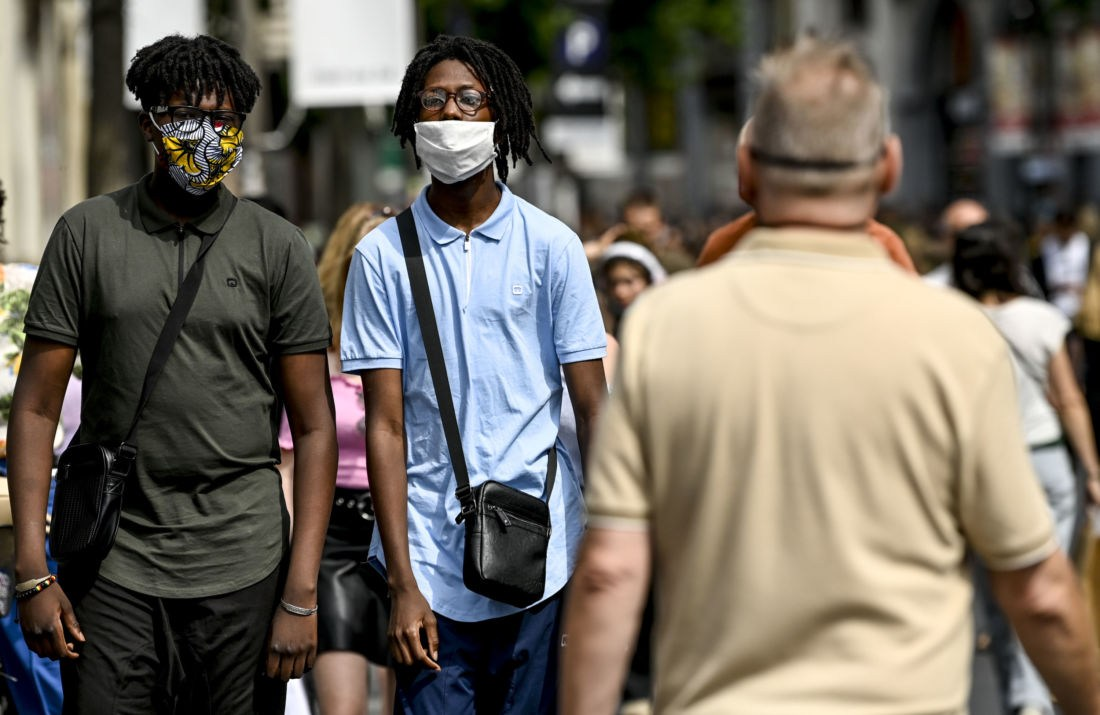with_incorrect_mask: (422, 66, 495, 170)
with_mask: (163, 87, 245, 183)
